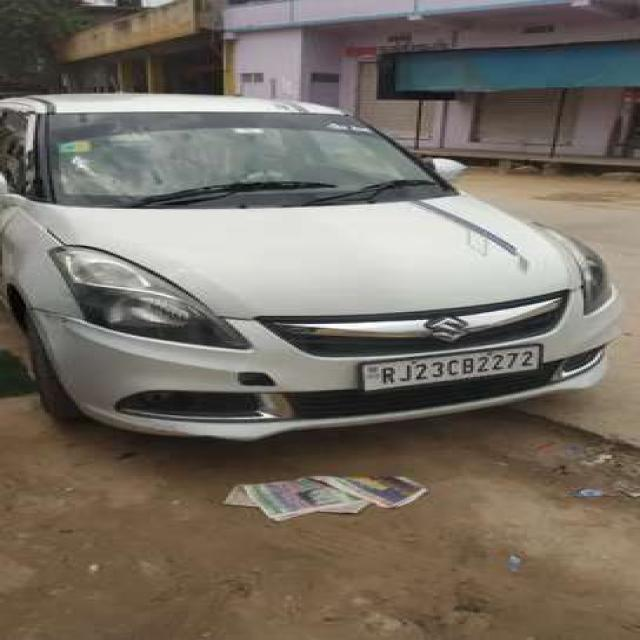Plate: (361, 345, 537, 390)
